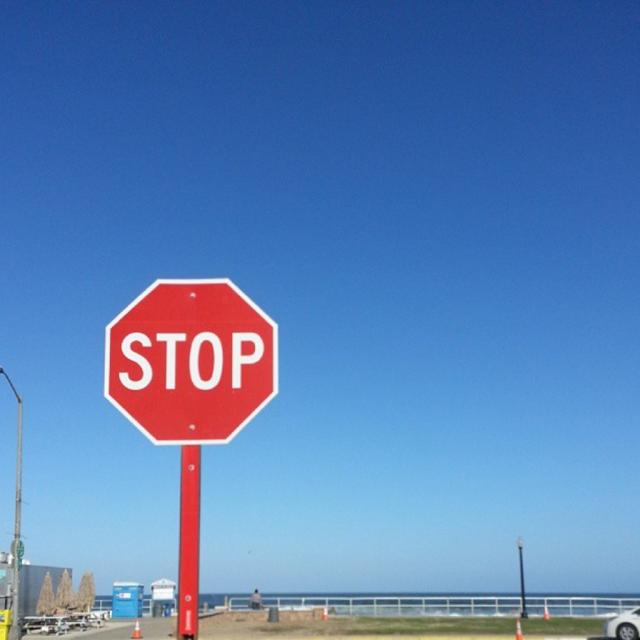Stop-sign: (104, 277, 276, 447)
